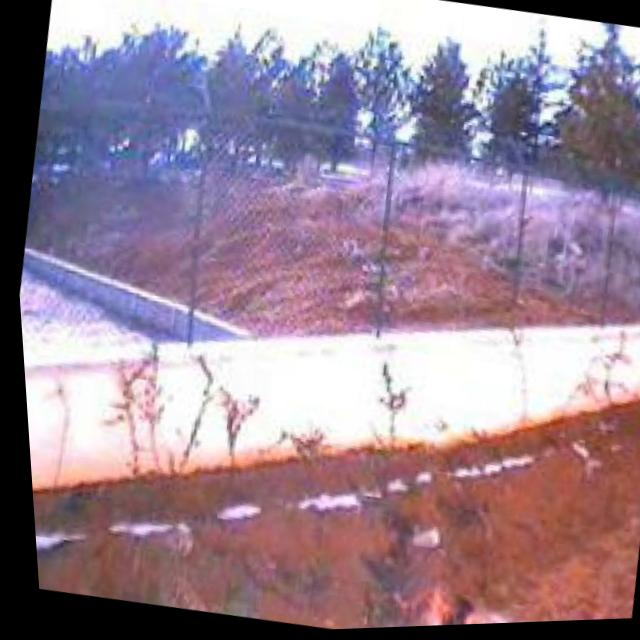Fire: (376, 579, 528, 630)
